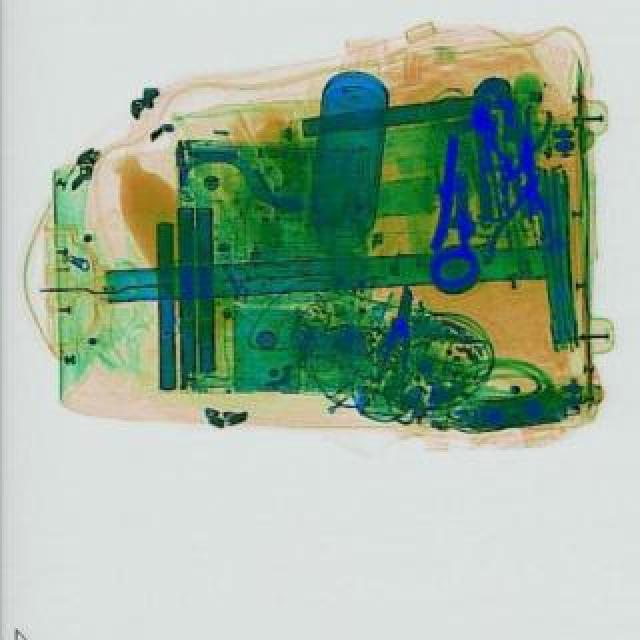wrench: (484, 170, 558, 268), (370, 284, 422, 404), (462, 102, 520, 194), (512, 104, 554, 164)
